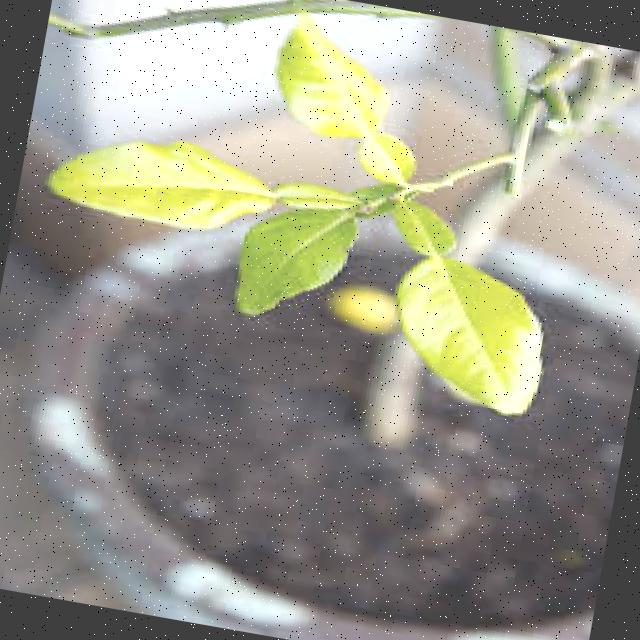yellow: (0, 0, 635, 438)
